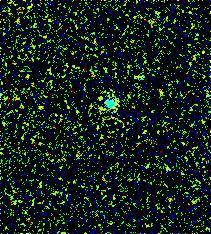star: (87, 84, 117, 114)
